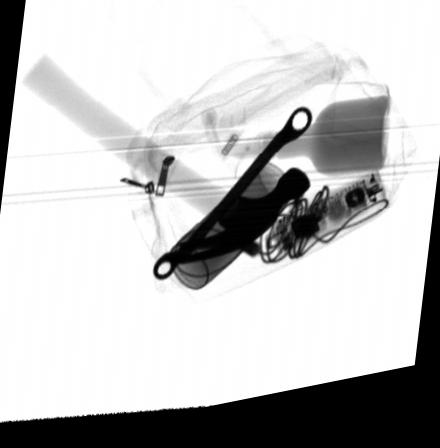Hammer: (18, 55, 310, 268)
Wrench: (152, 120, 311, 287)
